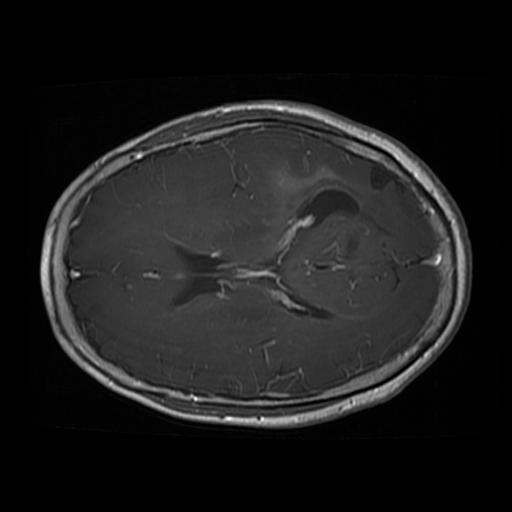glioma: (264, 160, 365, 249)
